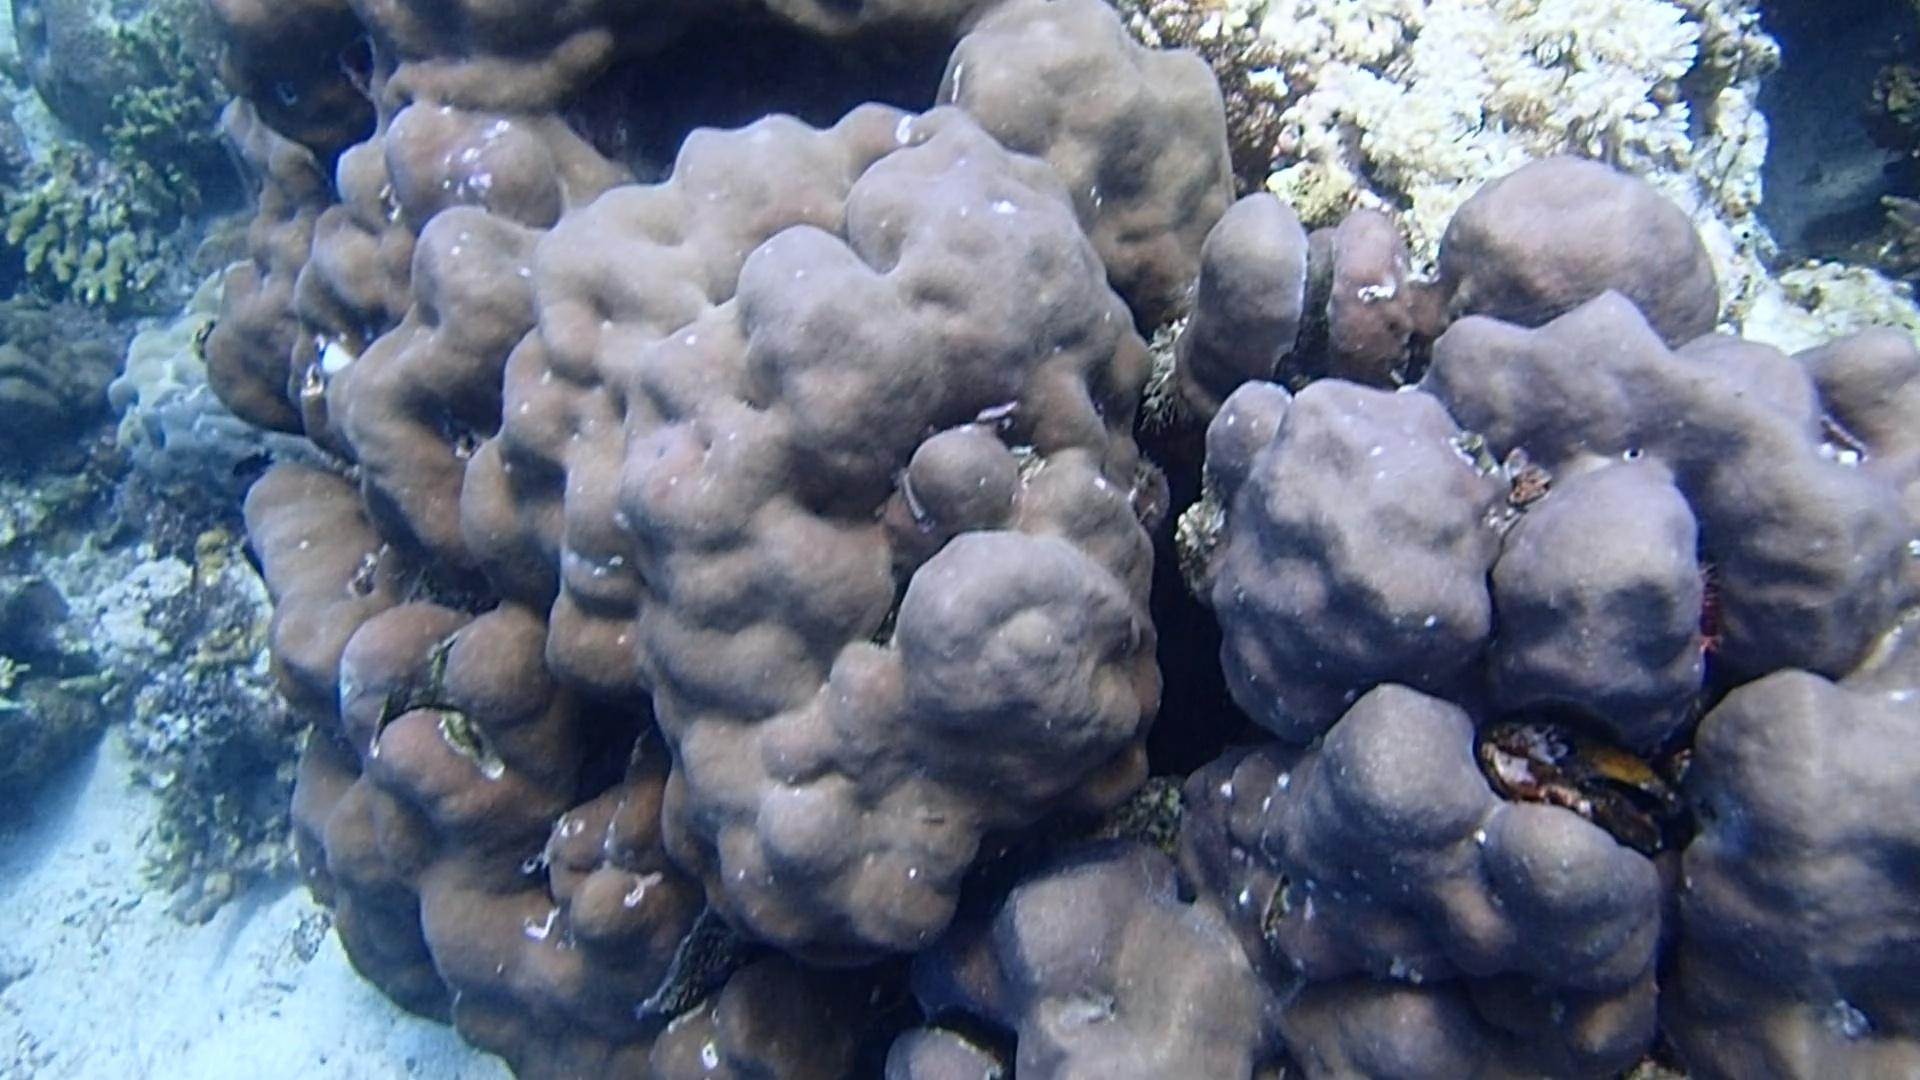Dark Fish: (223, 442, 282, 488)
